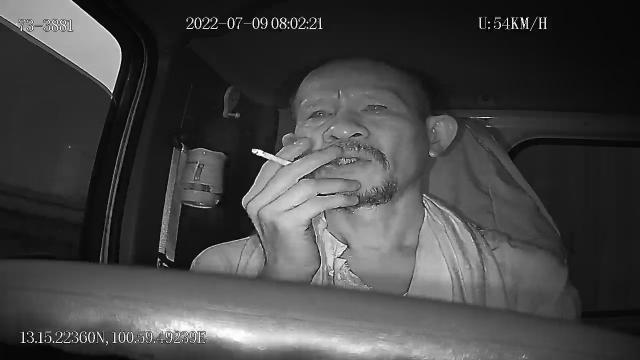SafeDriving: (357, 94, 399, 120), (300, 102, 336, 126)
Smoking: (251, 148, 293, 166)
